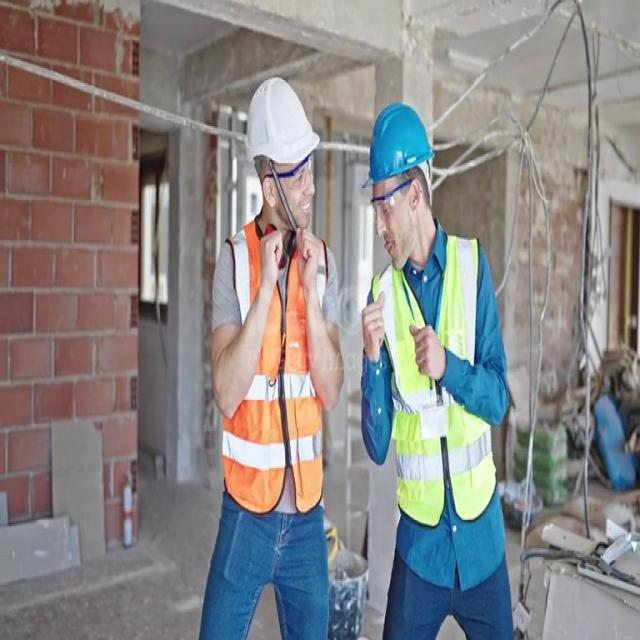capacete: (243, 80, 332, 192), (347, 96, 438, 196)
